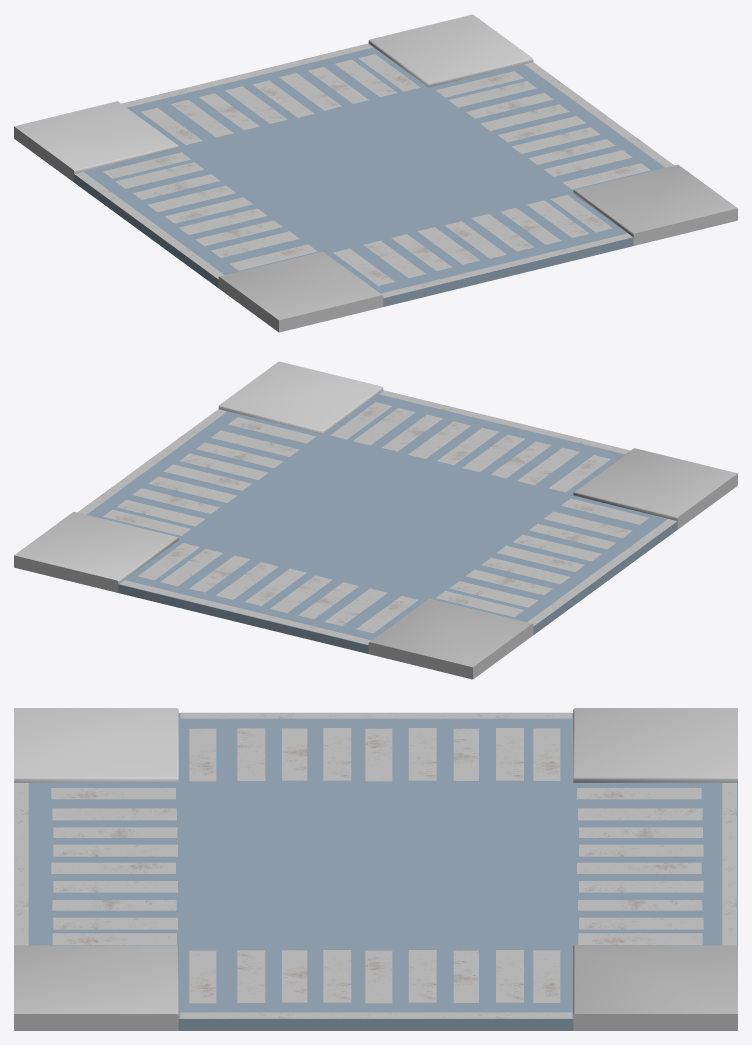
The model's file is Road_005.fbx.
3 views of the same model, one above another, from view 1: azimuth 30°, elevation 25°; view 2: azimuth 150°, elevation 25°; view 3: azimuth 270°, elevation 25° (orthographic). The views are drawn at different scales.
Parts seen in each view (by area): view 1: Road_005; view 2: Road_005; view 3: Road_005.
Boxes of the visible parts, <box> form: Road_005: <box>14,14,737,332</box>; Road_005: <box>14,361,737,679</box>; Road_005: <box>14,708,737,1030</box>.
Size of the model in its own units: 2203 by 56.17 by 2202.
